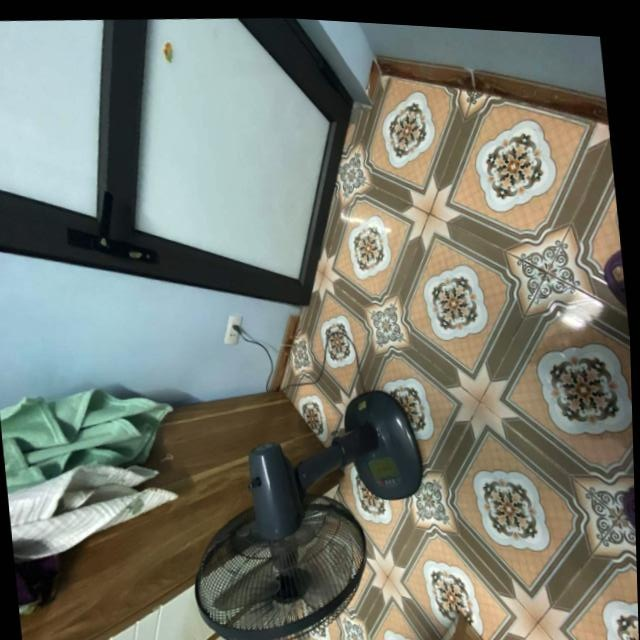outlet: (220, 315, 245, 347)
